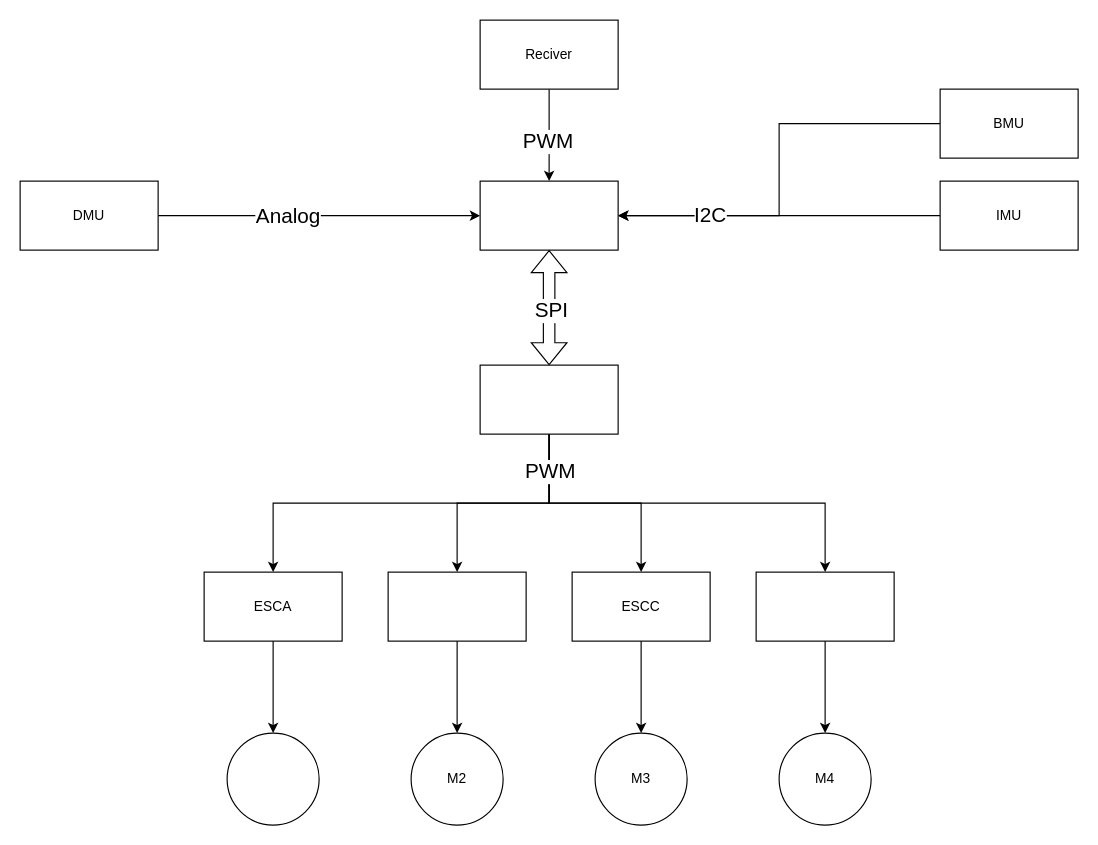
Image size: 1098x845. Some labels were removed from this diagram. The shapes that lost their labels are listed below. From the top down, each one's box as (x1, y1, x2, y2) in pixels, then its label:
(479, 180, 618, 250): HPU
(479, 364, 618, 434): FCU
(387, 571, 526, 641): ESCB
(755, 571, 894, 641): ESCD
(226, 732, 319, 825): M1
